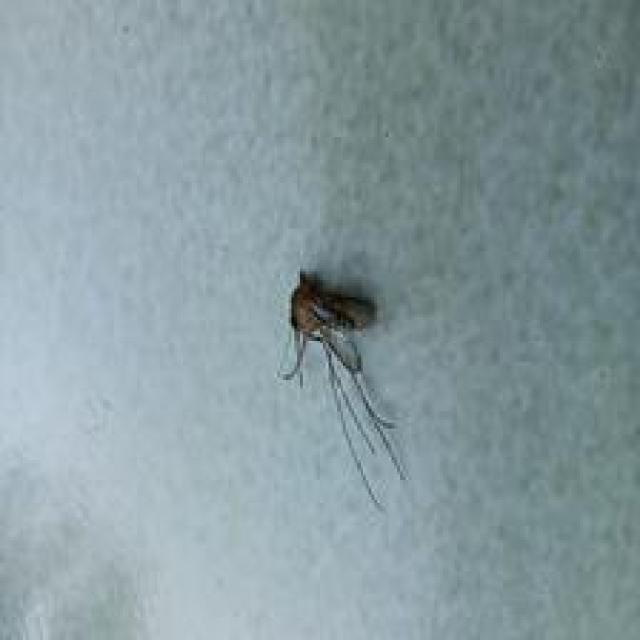Culex: (276, 267, 410, 510)
